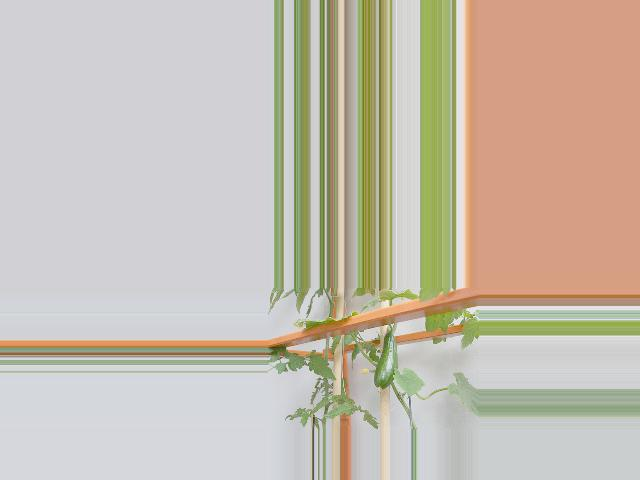cucumber: (373, 333, 397, 393)
